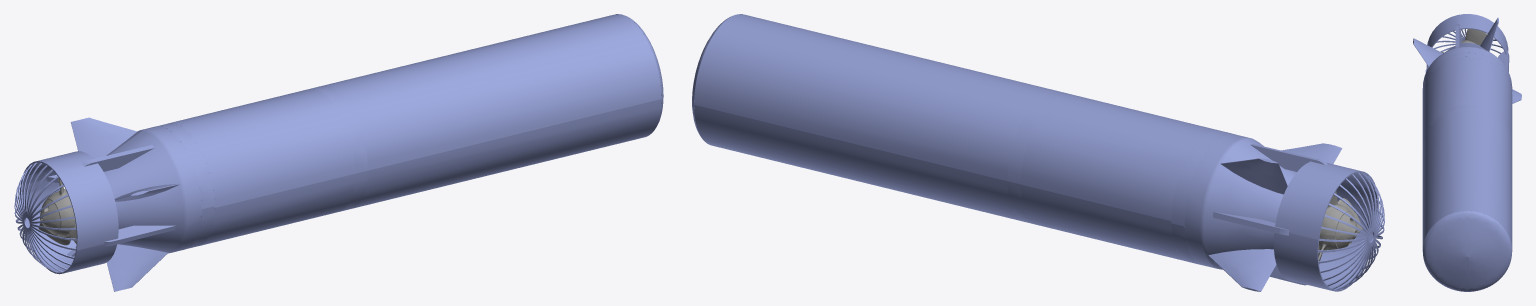
The model's file is roketaracımontajv2.1.dae.
The picture shows the model from 3 angles, left to right: view 1: azimuth 30°, elevation 25°; view 2: azimuth 150°, elevation 25°; view 3: azimuth 270°, elevation 25°; orthographic projection. The views are drawn at different scales.
Parts seen in each view (by area): view 1: empty_2, empty_4, empty_12, empty_5, empty_11, empty_6, empty_3, empty_9, empty_15, empty_7, empty_16; view 2: empty_2, empty_4, empty_12, empty_5, empty_3, empty_6, empty_10, empty_9, empty_15, empty_7, empty_16; view 3: empty_2, empty_14, empty_4, empty_12, empty_5, empty_6, empty_3, empty_7, empty_15, empty_9, empty_10.
Boxes of the visible parts, x1=… form: empty_2: x1=322, y1=14, x2=661, y2=208; empty_4: x1=168, y1=88, x2=355, y2=245; empty_12: x1=14, y1=145, x2=175, y2=274; empty_5: x1=104, y1=126, x2=201, y2=253; empty_11: x1=106, y1=244, x2=167, y2=291; empty_6: x1=157, y1=123, x2=214, y2=248; empty_3: x1=310, y1=85, x2=367, y2=211; empty_9: x1=70, y1=117, x2=137, y2=158; empty_15: x1=38, y1=178, x2=76, y2=245; empty_7: x1=114, y1=184, x2=179, y2=201; empty_16: x1=40, y1=199, x2=60, y2=234; empty_2: x1=694, y1=14, x2=1056, y2=221; empty_4: x1=1021, y1=93, x2=1219, y2=261; empty_12: x1=1213, y1=144, x2=1384, y2=291; empty_5: x1=1184, y1=133, x2=1296, y2=269; empty_3: x1=1007, y1=90, x2=1070, y2=224; empty_6: x1=1171, y1=130, x2=1234, y2=264; empty_10: x1=1208, y1=249, x2=1276, y2=291; empty_9: x1=1220, y1=158, x2=1287, y2=194; empty_15: x1=1318, y1=191, x2=1362, y2=261; empty_7: x1=1281, y1=143, x2=1342, y2=163; empty_16: x1=1335, y1=212, x2=1357, y2=248; empty_2: x1=1422, y1=109, x2=1512, y2=291; empty_14: x1=1423, y1=211, x2=1511, y2=291; empty_4: x1=1422, y1=57, x2=1512, y2=144; empty_12: x1=1425, y1=14, x2=1509, y2=72; empty_5: x1=1422, y1=43, x2=1512, y2=92; empty_6: x1=1422, y1=52, x2=1512, y2=96; empty_3: x1=1422, y1=105, x2=1512, y2=148; empty_7: x1=1413, y1=38, x2=1442, y2=66; empty_15: x1=1441, y1=29, x2=1486, y2=53; empty_9: x1=1480, y1=17, x2=1498, y2=51; empty_10: x1=1512, y1=89, x2=1521, y2=103.
Bounding box in the file's own units: 790 × 170 × 170.
